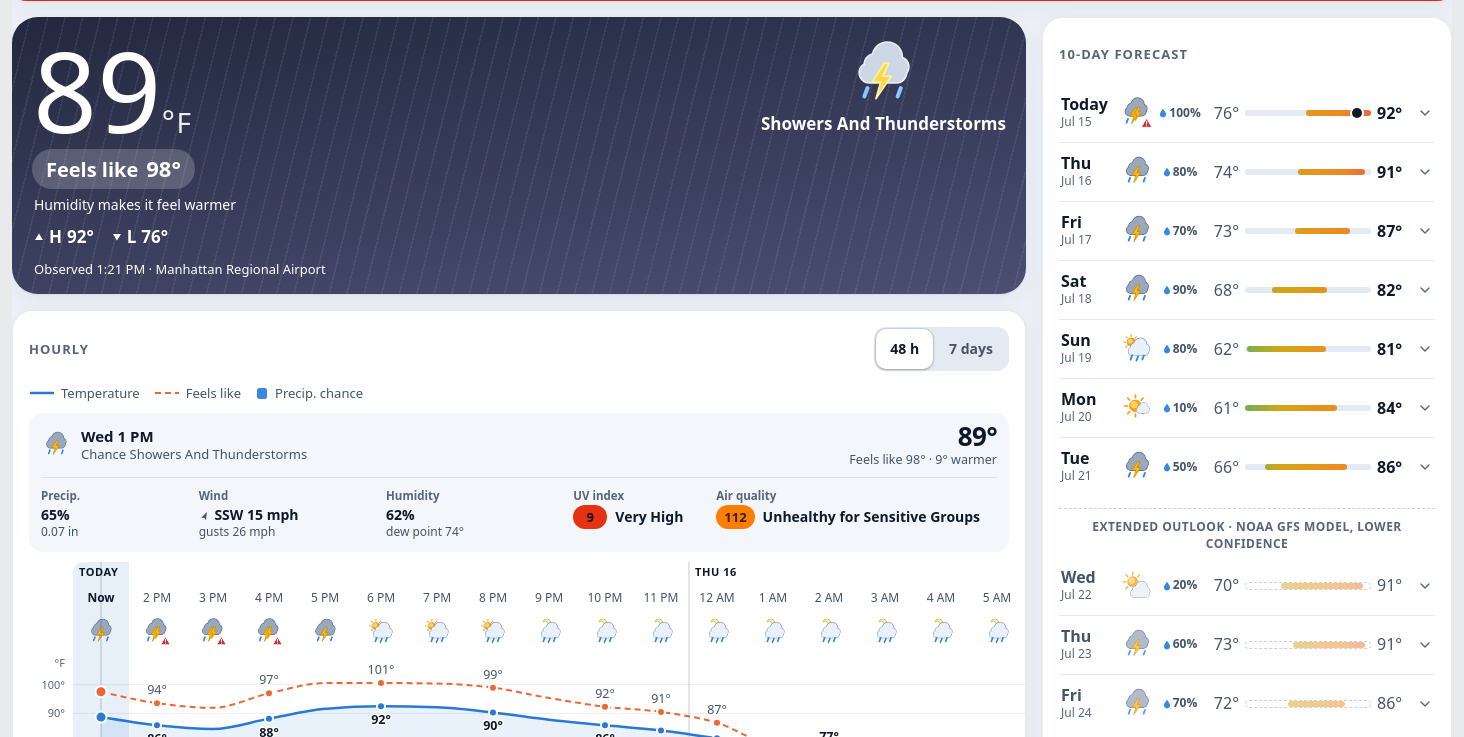
Test case: 10-day list › expands a day to show the forecaster text and the extra details, one at a time
Step 1. Click the button "Thu Jul 16 80% 74° 91°" → {"x": 1247, "y": 172}, box [1059,143,1435,201]
(page scrolled)
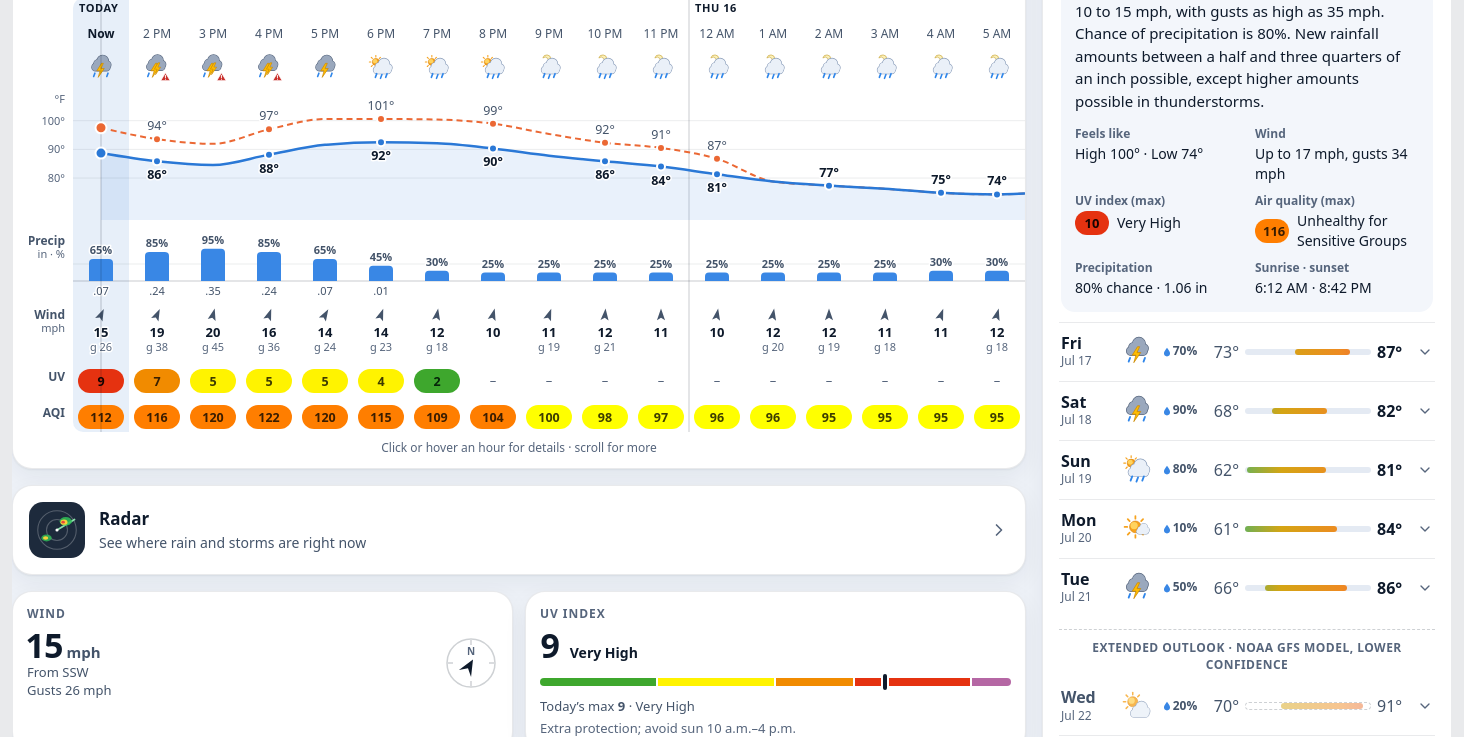
Expected: the text "Feels like" is shown, [1075,125,1130,142]
# Opening another day closes the first.
Step 2. Click the button "Fri Jul 17 70% 73° 87°" → {"x": 1247, "y": 352}, box [1059,323,1435,381]
(page scrolled)
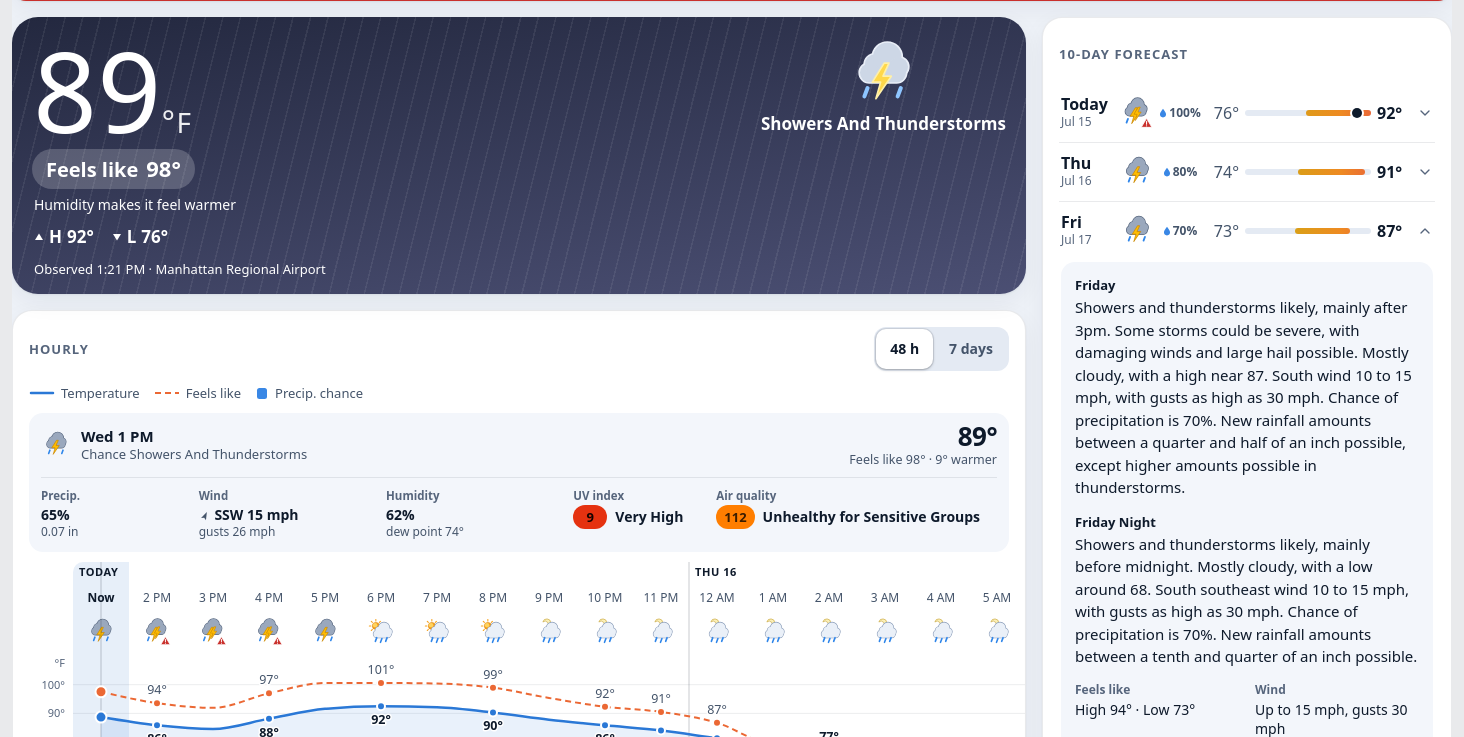
Expected: the button "Thu Jul 16 80% 74° 91°" is collapsed, [1059,143,1435,201]
Expected: the button "Fri Jul 17 70% 73° 87°" is expanded, [1059,202,1435,260]
